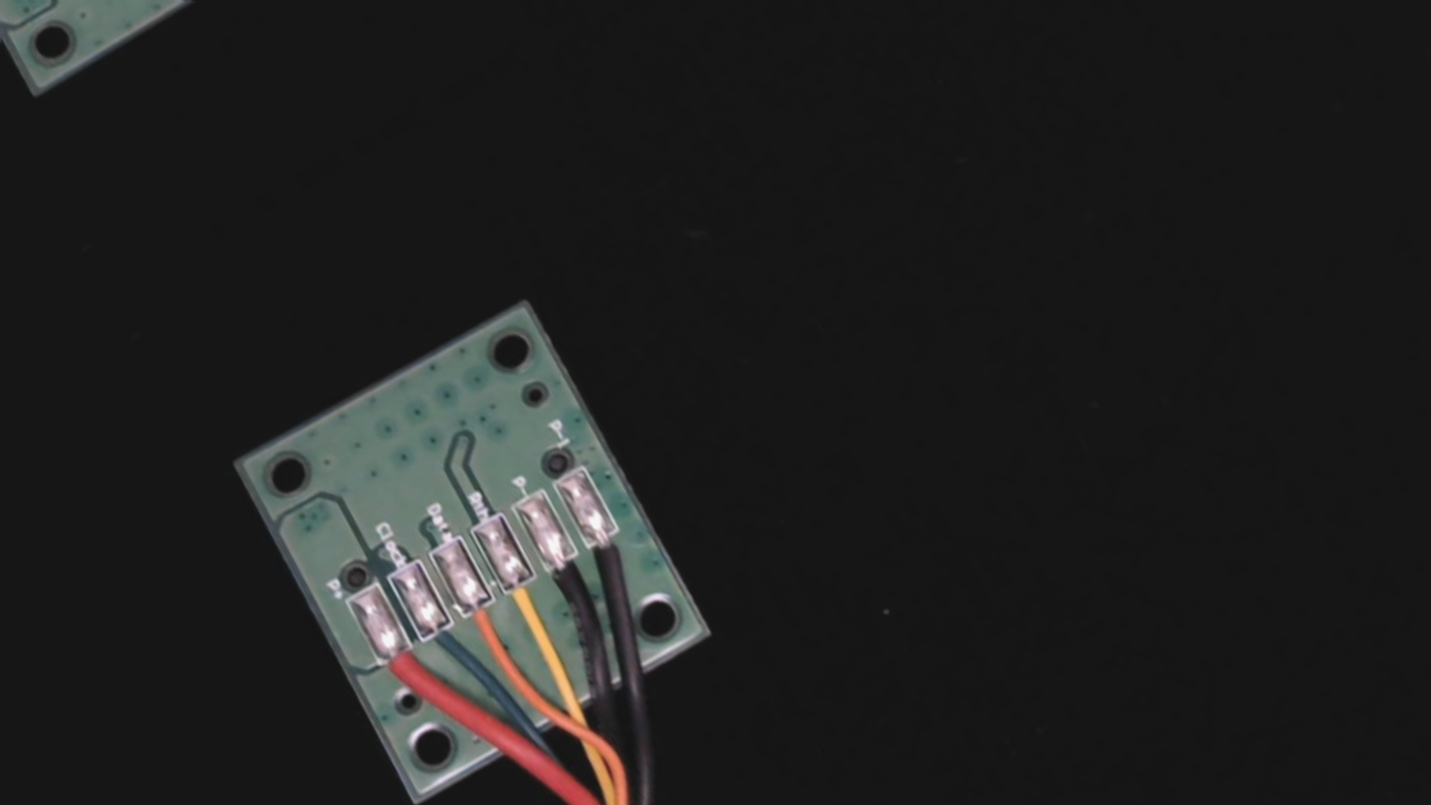Black: (529, 536, 603, 619)
Black1: (574, 512, 645, 592)
Green: (407, 604, 482, 685)
Orange: (445, 581, 523, 665)
Red: (367, 629, 442, 714)
Yellow: (487, 557, 568, 649)
